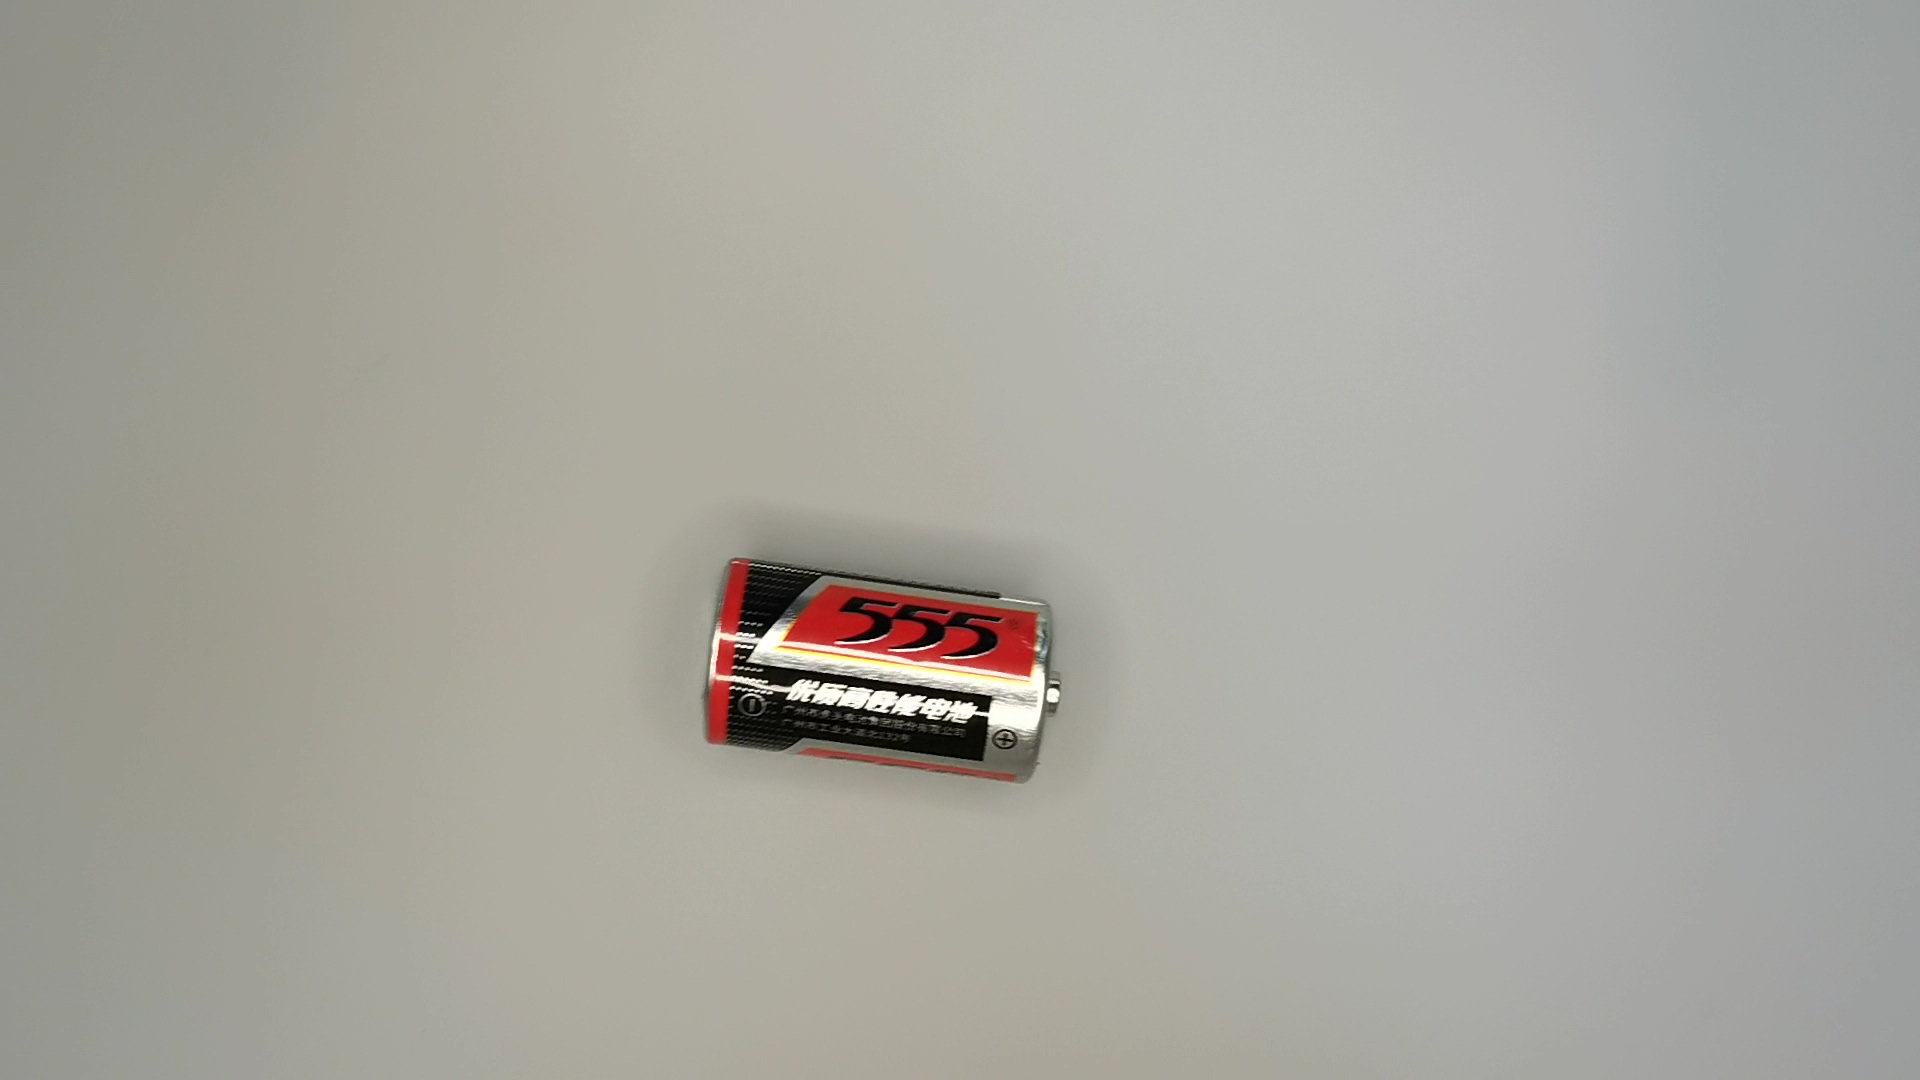battery: (694, 554, 1075, 787)
